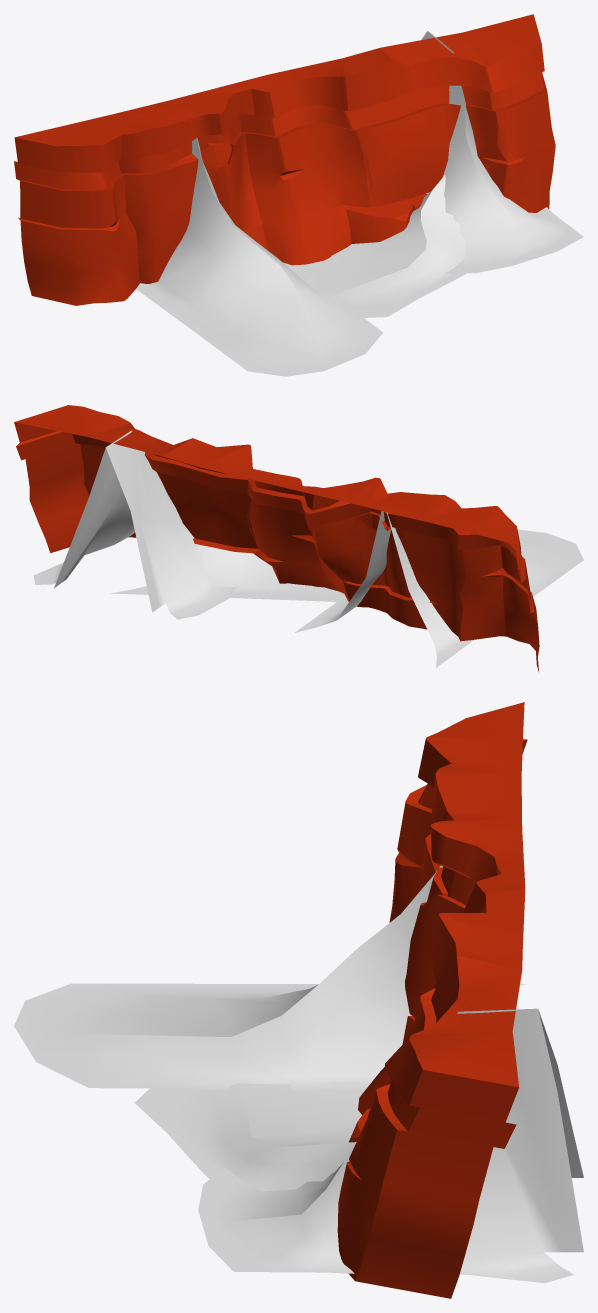
The model's file is SM_Mars_Cliff_01.fbx.
3 views of the same model, one above another, from view 1: azimuth 30°, elevation 25°; view 2: azimuth 150°, elevation 25°; view 3: azimuth 270°, elevation 25° (orthographic). The views are drawn at different scales.
Parts seen in each view (by area): view 1: Cliff_01, Sand_01, Sand_02, Sand_03; view 2: Cliff_01, Sand_03, Sand_01, Sand_02; view 3: Cliff_01, Sand_01, Sand_03, Sand_02.
Part boxes in pixels (<box>): Cliff_01: <box>14,14,555,305</box>; Sand_01: <box>136,138,383,376</box>; Sand_02: <box>297,175,466,317</box>; Sand_03: <box>421,31,583,273</box>; Cliff_01: <box>14,405,539,671</box>; Sand_03: <box>33,430,235,619</box>; Sand_01: <box>295,511,583,667</box>; Sand_02: <box>110,525,345,601</box>; Cliff_01: <box>337,702,527,1298</box>; Sand_01: <box>14,865,525,1091</box>; Sand_03: <box>198,1008,583,1283</box>; Sand_02: <box>134,1083,364,1191</box>.
Bounding box in the file's own units: 8884 × 2540 × 5528.
